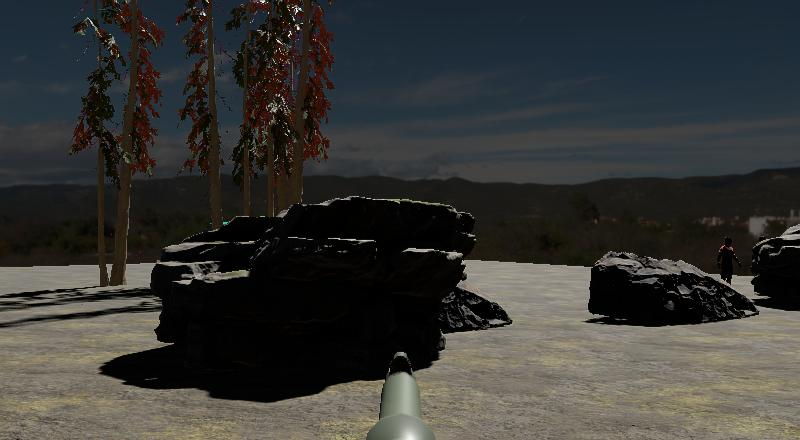Human: (715, 234, 743, 287)
